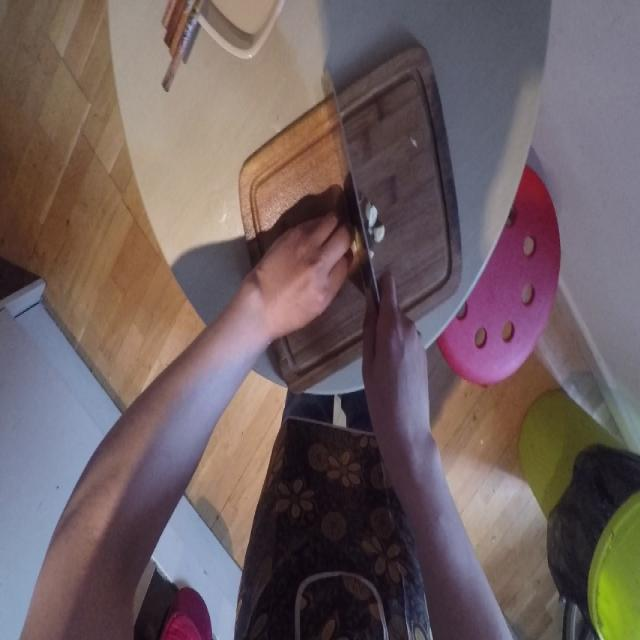bin: (515, 369, 640, 639)
knife: (327, 66, 387, 330)
left hand: (252, 180, 354, 330)
right hand: (367, 276, 446, 534)
